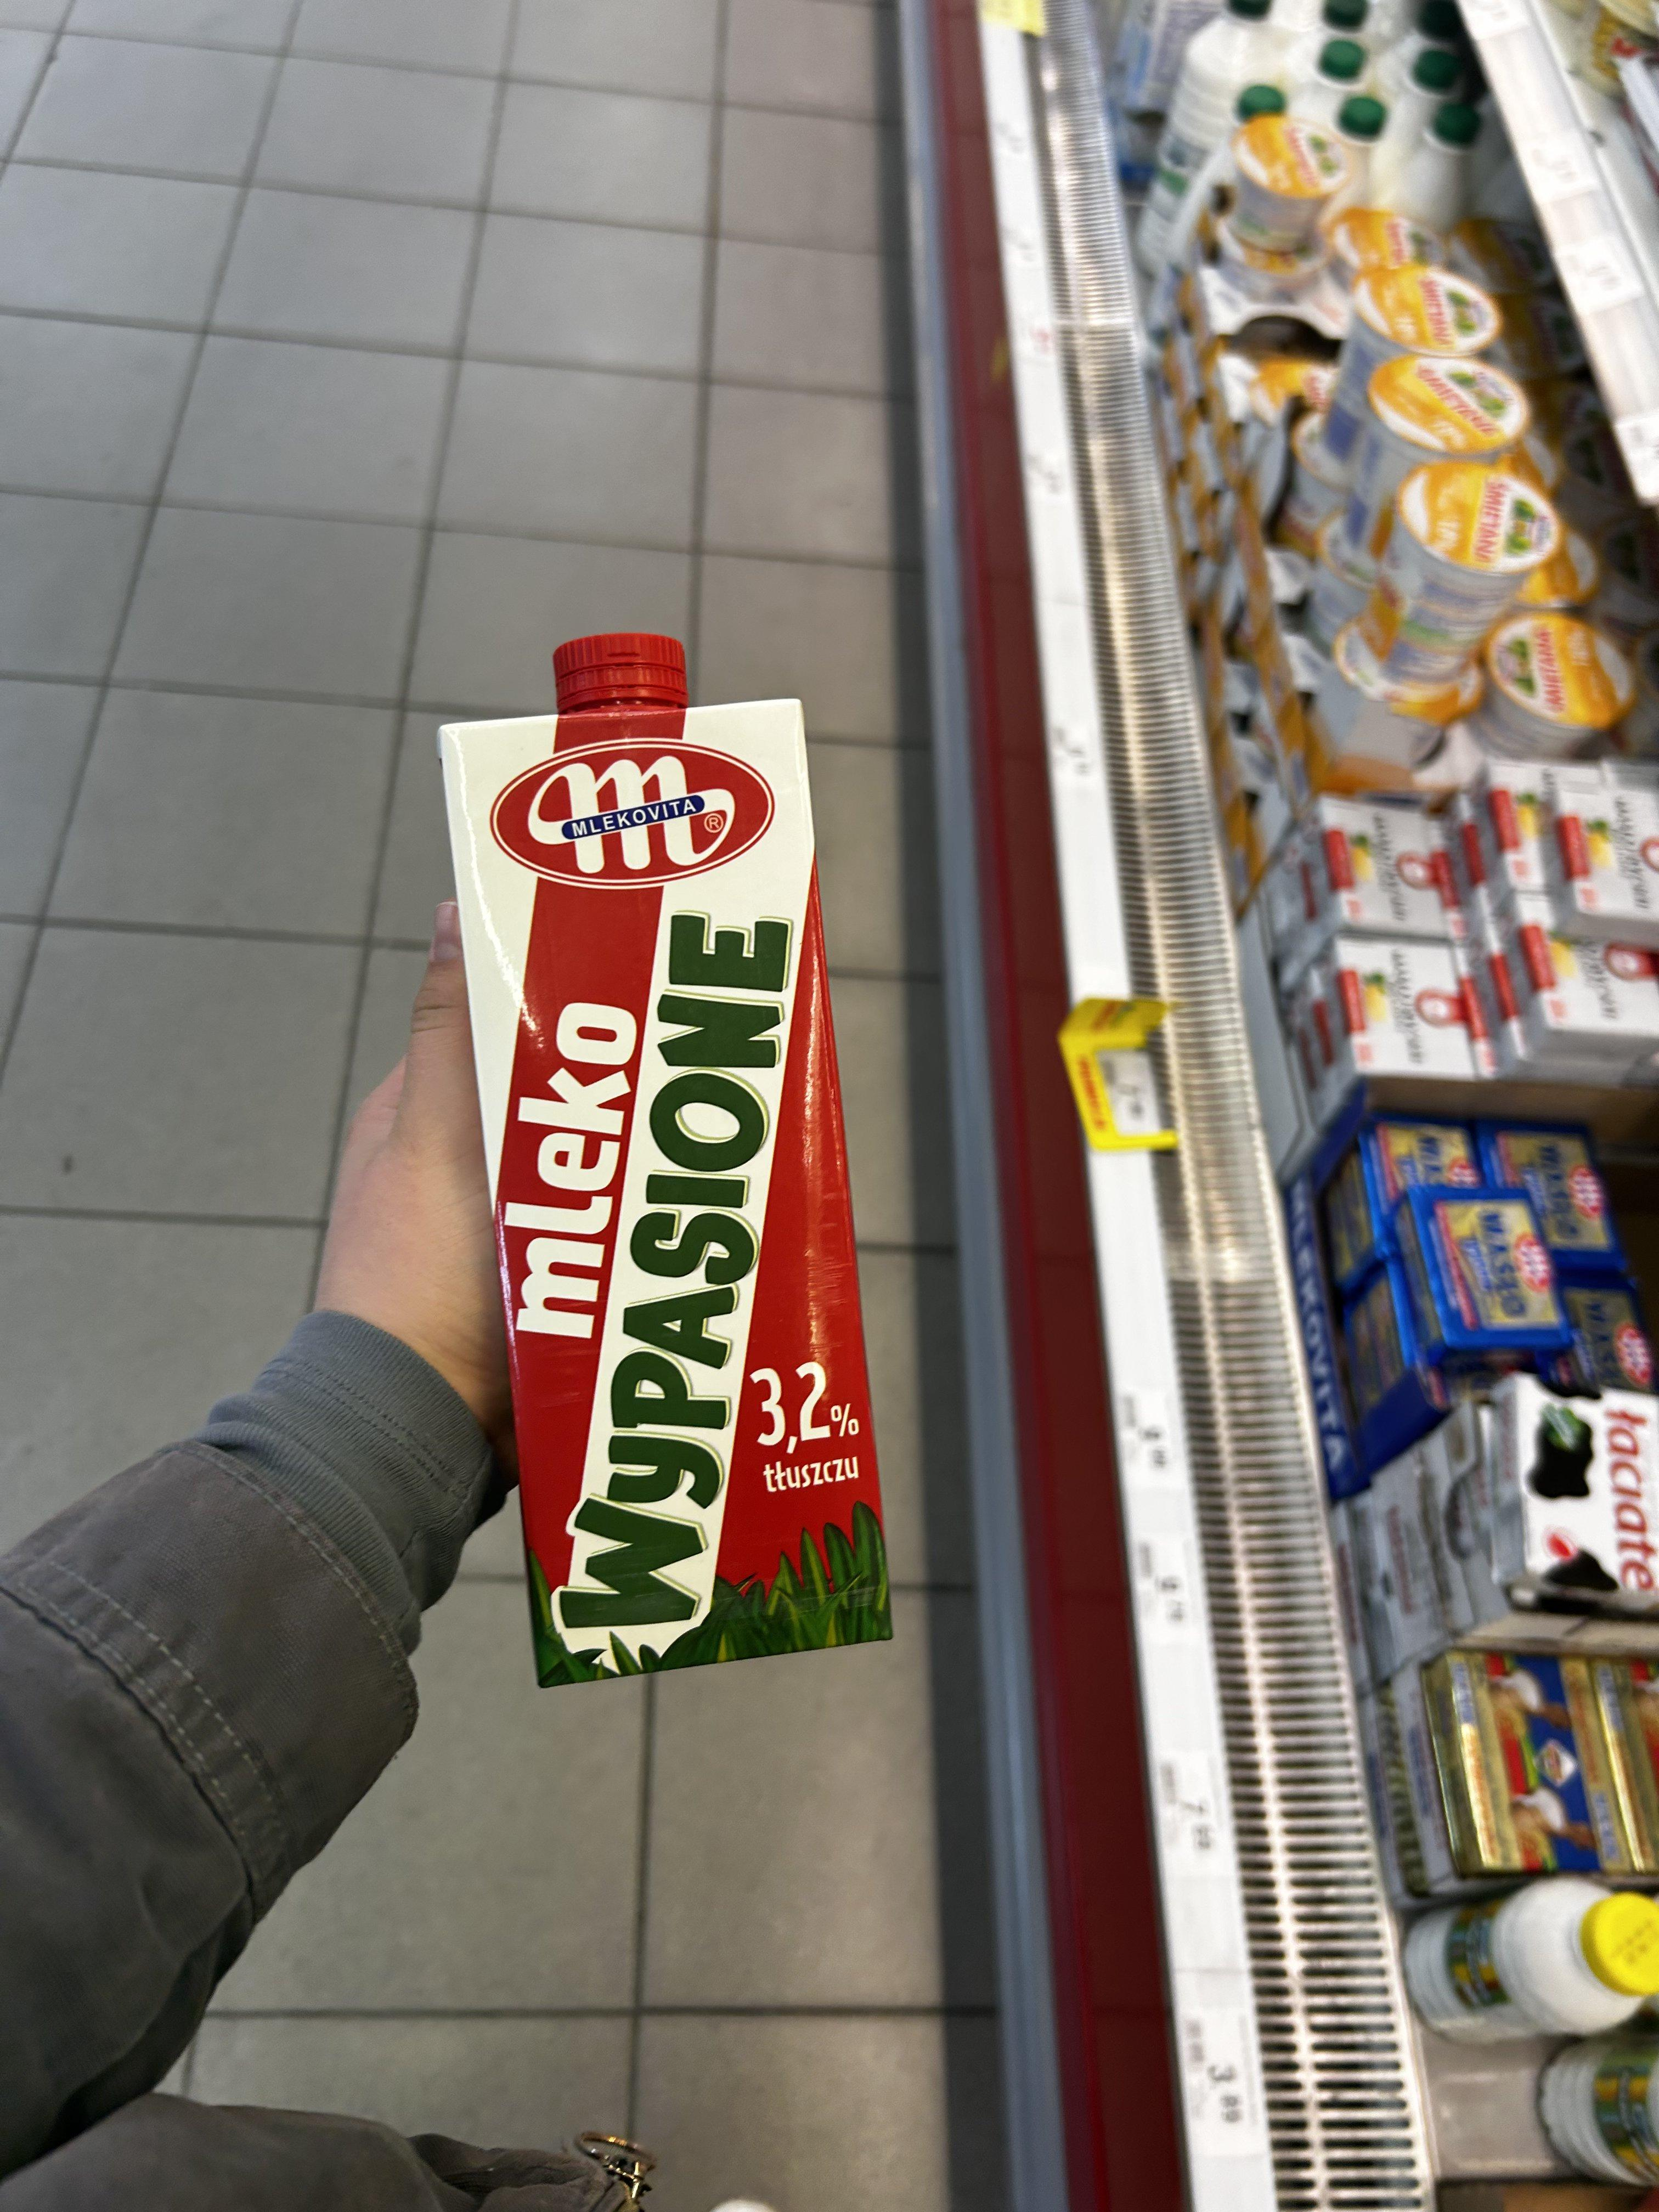Milk: (427, 604, 922, 1705)
